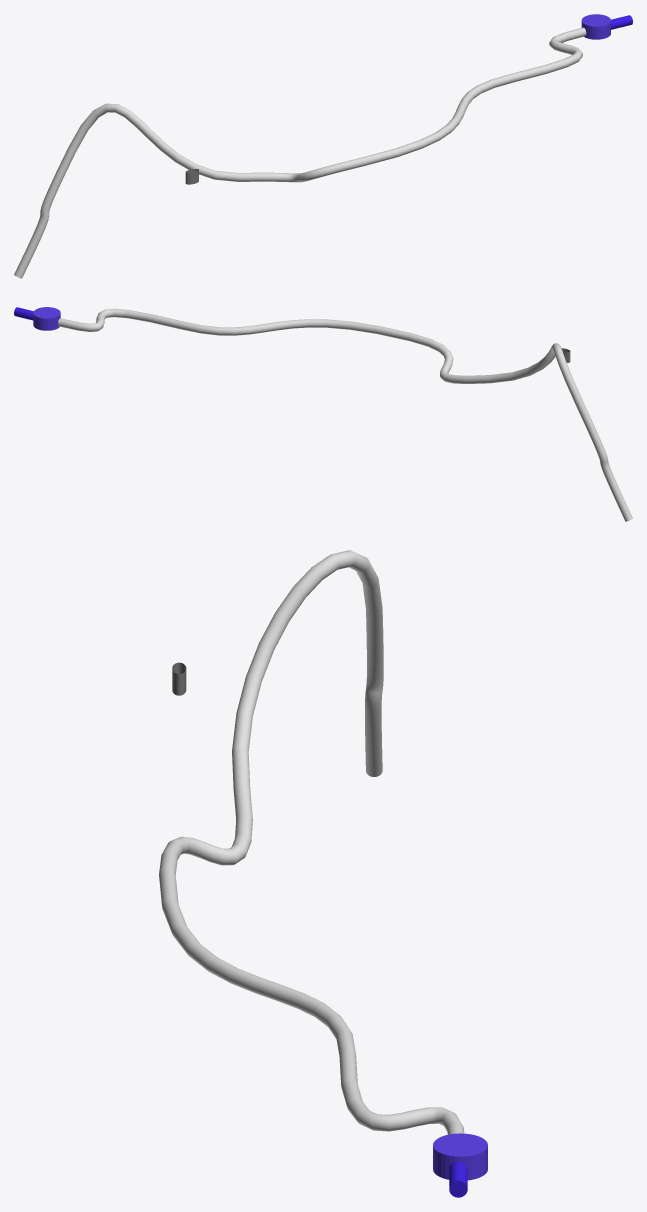
File: wirecuff_no16.glb
3 renders of one model, top to bottom at view 1: azimuth 30°, elevation 25°; view 2: azimuth 150°, elevation 25°; view 3: azimuth 270°, elevation 25°, orthographic. The views are drawn at different scales.
Parts seen in each view (by area): view 1: BezierCurve, Cylinder; view 2: BezierCurve, Cylinder; view 3: BezierCurve, Cylinder.
Part boxes in pixels (bbox=[...]): BezierCurve: bbox=[14, 27, 586, 278]; Cylinder: bbox=[581, 14, 610, 39]; BezierCurve: bbox=[58, 308, 632, 521]; Cylinder: bbox=[33, 307, 60, 330]; BezierCurve: bbox=[159, 550, 464, 1134]; Cylinder: bbox=[433, 1133, 487, 1180].
Size of the model in its own units: 4.15 by 0.9974 by 0.993.
